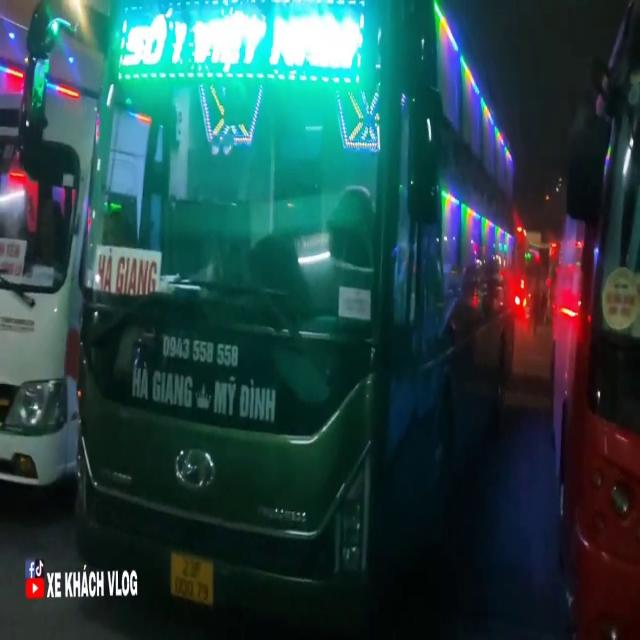bien_vang: (165, 546, 215, 610)
